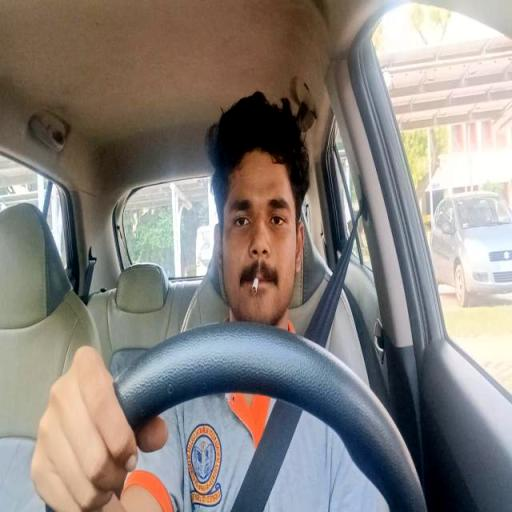Smoking: (26, 85, 384, 510)
